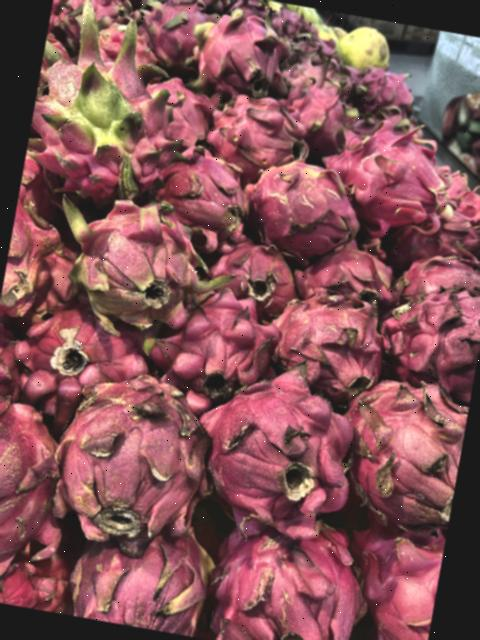buah-naga-belum-matang: (25, 0, 193, 206), (44, 175, 242, 342), (233, 146, 363, 261)
buah-naga-matang: (42, 369, 226, 548), (188, 369, 362, 546), (194, 509, 382, 640), (325, 377, 469, 530), (50, 518, 227, 640), (311, 112, 471, 246), (0, 393, 91, 590), (142, 284, 280, 397), (7, 298, 148, 398), (264, 280, 381, 400), (369, 280, 480, 393), (139, 141, 255, 244), (205, 85, 324, 182), (180, 6, 298, 102), (291, 234, 412, 324), (199, 234, 303, 316)
